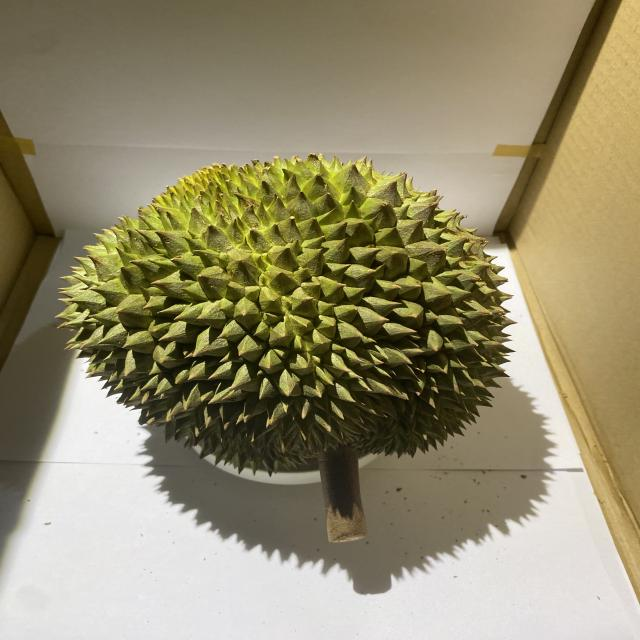immature: (56, 153, 522, 476)
